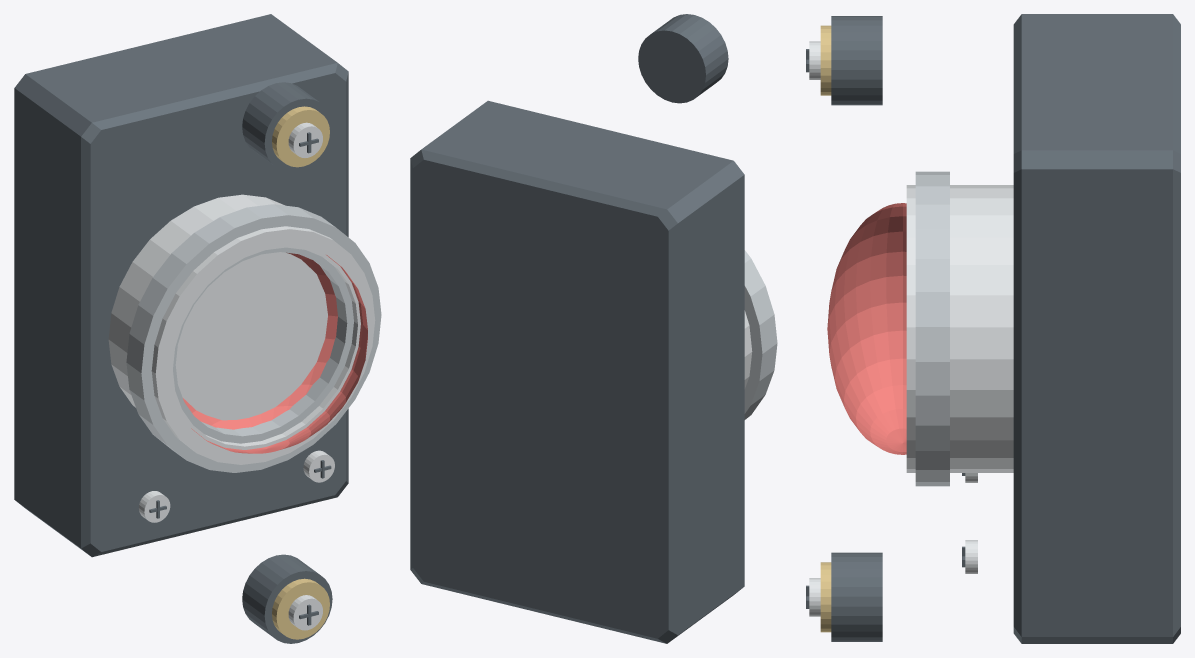
File: indicator.glb
3 views of the same model, side by side, from view 1: azimuth 30°, elevation 25°; view 2: azimuth 150°, elevation 25°; view 3: azimuth 270°, elevation 25° (orthographic). The views are drawn at different scales.
Parts seen in each view (by area): view 1: indicator-detailed; view 2: indicator-detailed; view 3: indicator-detailed.
Part boxes in pixels (bbox=[...]): indicator-detailed: bbox=[14, 14, 381, 643]; indicator-detailed: bbox=[410, 14, 777, 643]; indicator-detailed: bbox=[806, 14, 1180, 643].
Bounding box in the file's own units: 1.24 × 2.4 × 1.32.
